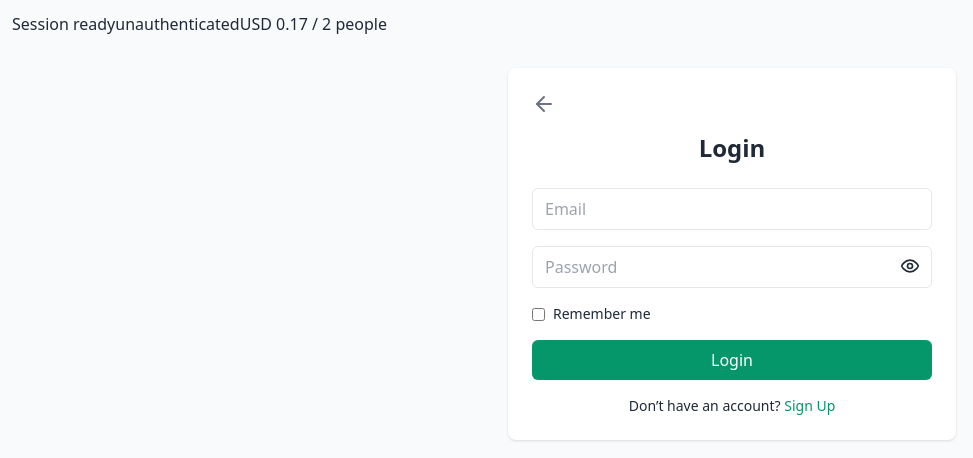
Scenario: full-stack account hydration › loads existing appliances and settings before login navigation without remounting the provider
Expected: the text "Session ready" is shown, [12,13,115,35]
Type "existing@example.com" into the field with placeholder "Email" at (732, 209), box [532,188,932,230]
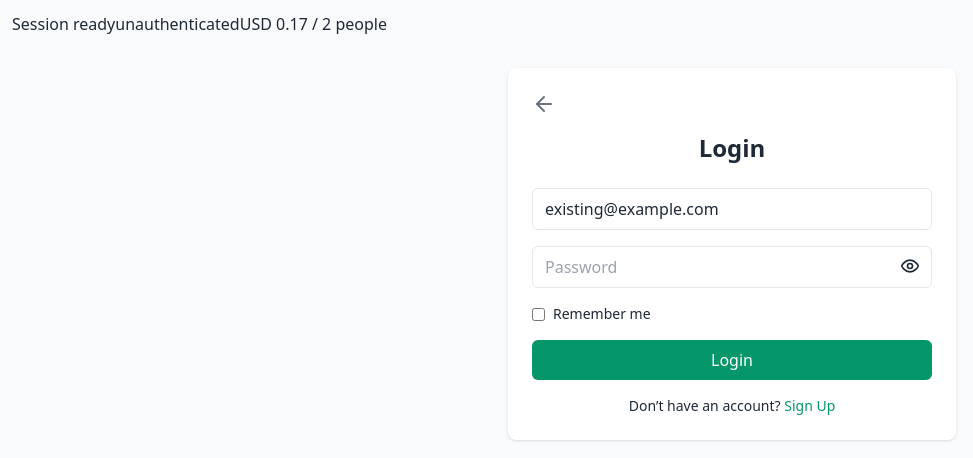
Type "test-password" into the password field with placeholder "Password" at (732, 267), box [532,246,932,288]
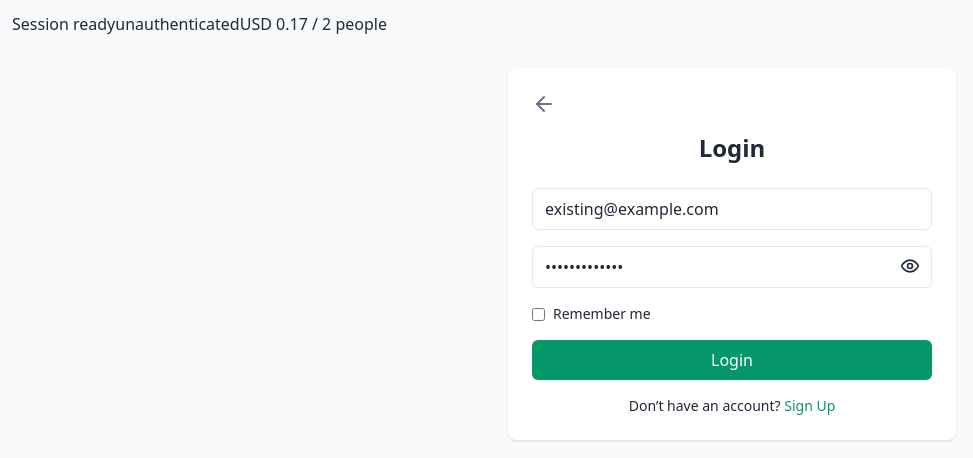
Click the button "Login" at (732, 360), box [532,340,932,380]
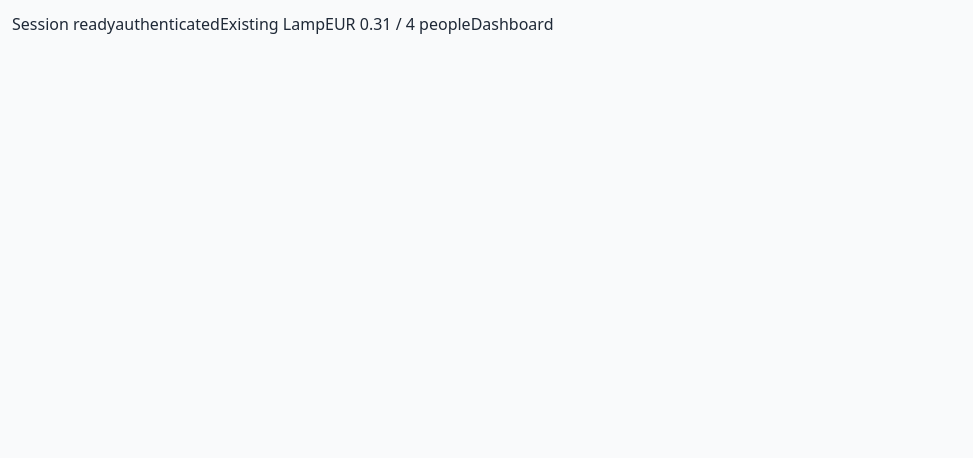
Result: the text "Dashboard" is shown at [471,13,553,35]
Result: the text "Existing Lamp" is shown at [220,13,325,35]
Result: the text "EUR 0.31 / 4 people" is shown at [325,13,471,35]
